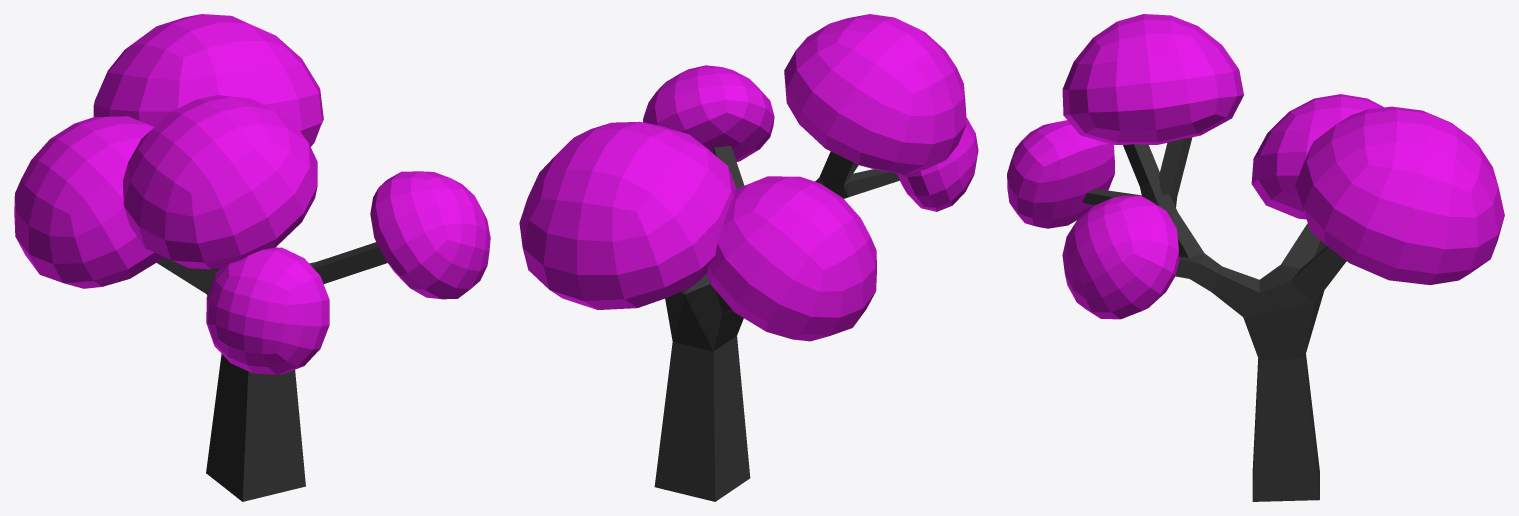
The model's file is Sakura1.fbx.
3 renders of one model, left to right at view 1: azimuth 30°, elevation 25°; view 2: azimuth 150°, elevation 25°; view 3: azimuth 270°, elevation 25°, orthographic. The views are drawn at different scales.
Parts seen in each view (by area): view 1: Cube.001; view 2: Cube.001; view 3: Cube.001.
Boxes of the visible parts, x1=… form: Cube.001: x1=14, y1=14, x2=490, y2=501; Cube.001: x1=519, y1=14, x2=978, y2=501; Cube.001: x1=1007, y1=14, x2=1504, y2=501.
Size of the model in its own units: 2.23 by 2.87 by 3.1.
